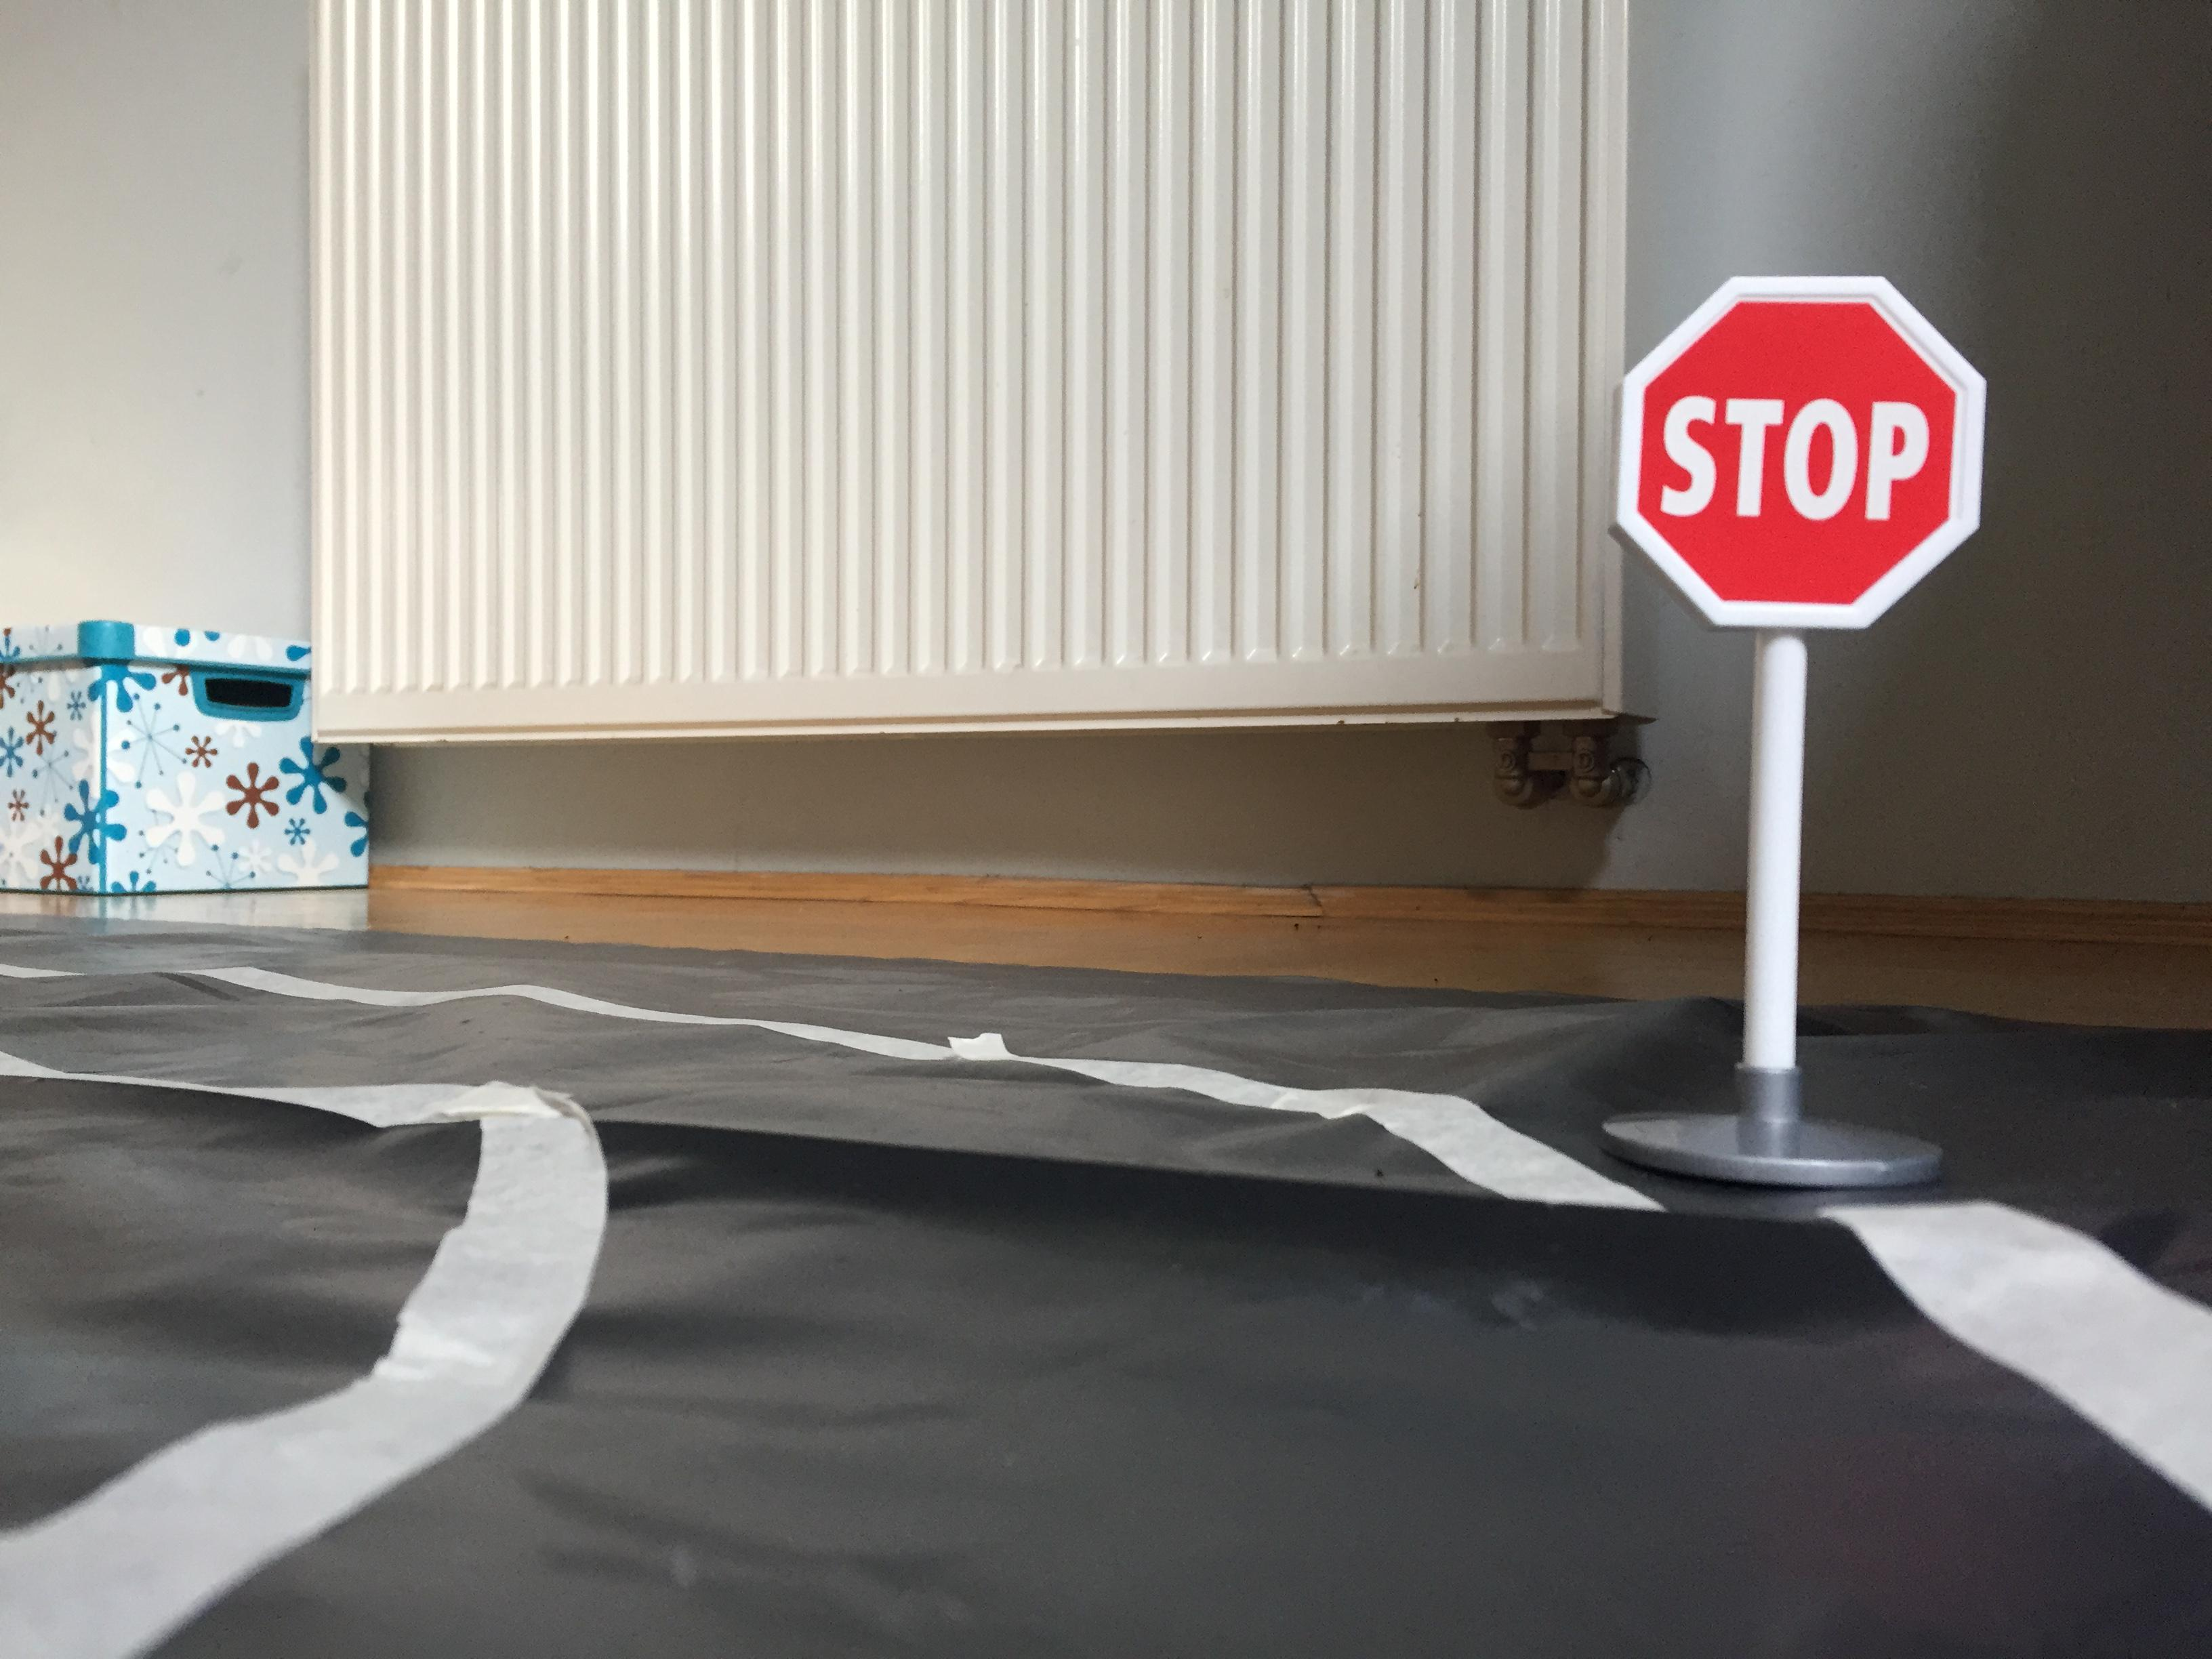stop: (1608, 265, 2001, 650)
